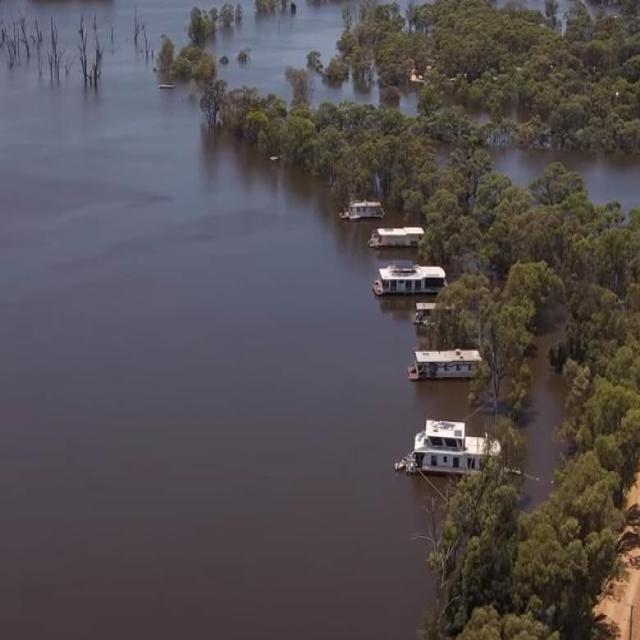flood: (0, 0, 491, 638), (210, 0, 360, 101), (499, 304, 569, 511), (491, 147, 640, 209), (311, 71, 380, 105), (467, 398, 501, 439), (400, 91, 418, 115)
house: (407, 414, 505, 483), (374, 258, 451, 302), (412, 344, 487, 384), (373, 222, 426, 252), (343, 200, 390, 222)
